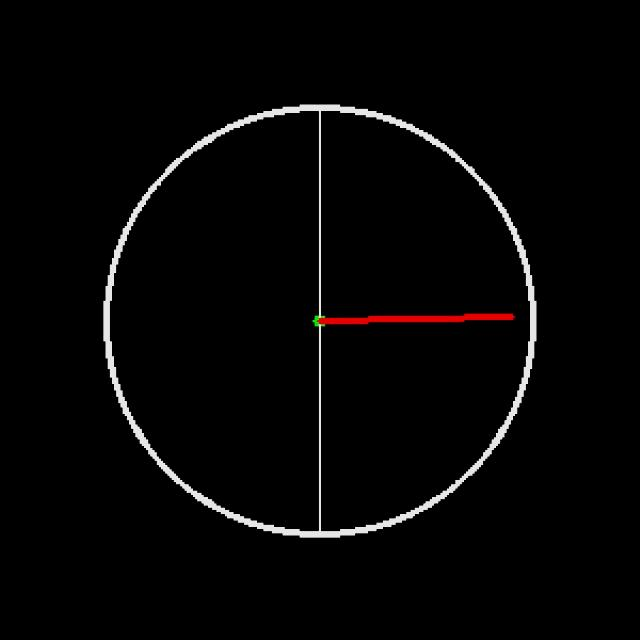Needle_Tip: (457, 298, 532, 339)
Needle_base: (286, 286, 349, 363)
